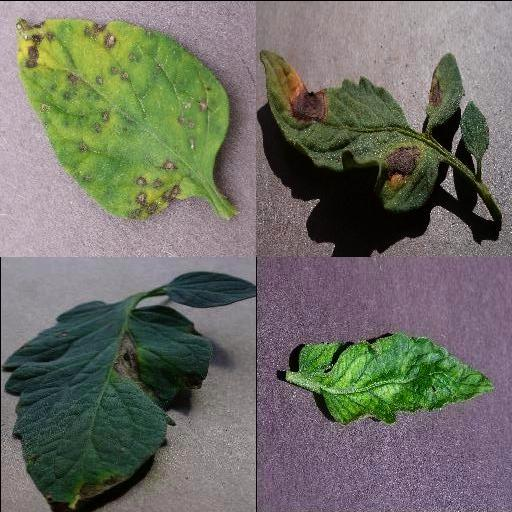Early Blight: (0, 301, 213, 510), (258, 48, 442, 210)
Healthy: (166, 270, 256, 309)
Mosaic Virus: (297, 331, 497, 427)
Septoria: (16, 18, 230, 218)
